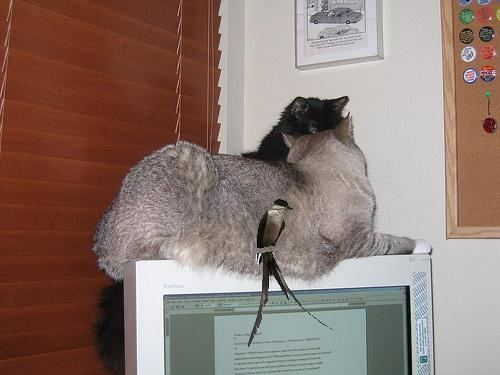tampered: (249, 100, 346, 347)
